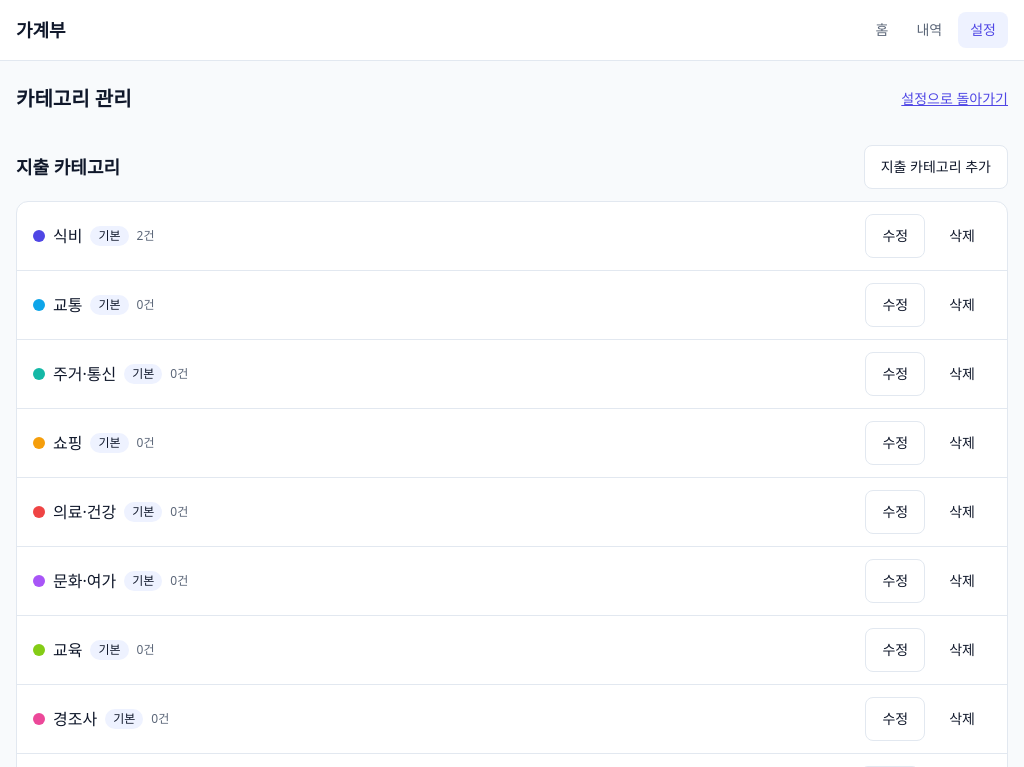
Test: 카테고리 삭제 › 사용 중인 카테고리는 같은 유형의 카테고리로 내역을 옮겨야 삭제된다
Expected: the heading "카테고리 관리" is shown, [16,85,132,113]
Click the button with aria-label "지출 카테고리 식비 삭제" at (962, 236), box [933,214,991,258]
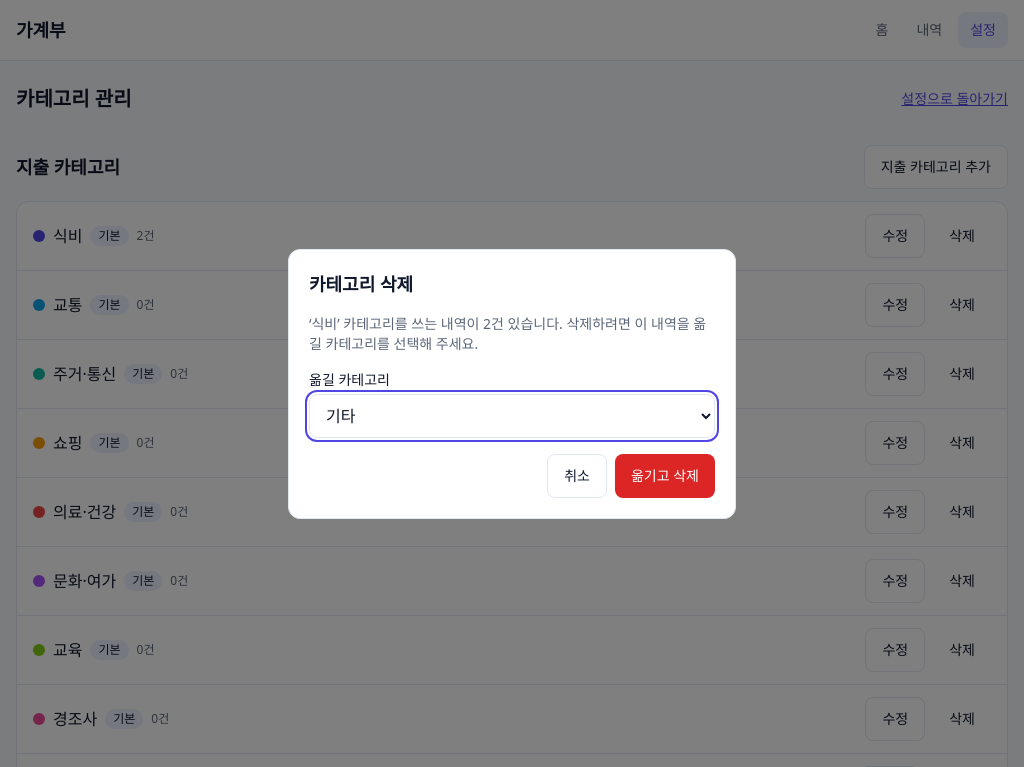
Expected: the option does not show "식비"
Result: the dialog "카테고리 삭제" shows "내역이 2건 있습니다" at [288,249,736,519]
Result: the dropdown labelled "옮길 카테고리" shows "기타"
Select "교통" in the dropdown labelled "옮길 카테고리" at (512, 416), box [309,394,715,438]
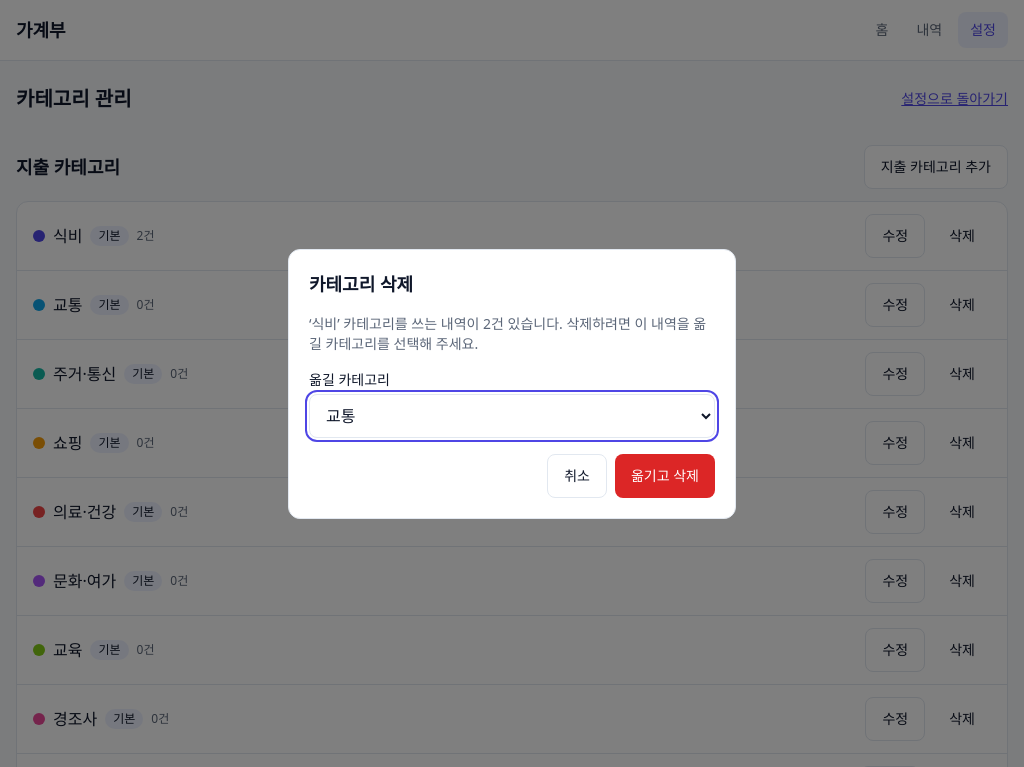
Click the button "옮기고 삭제" at (665, 476), box [615,454,715,498]
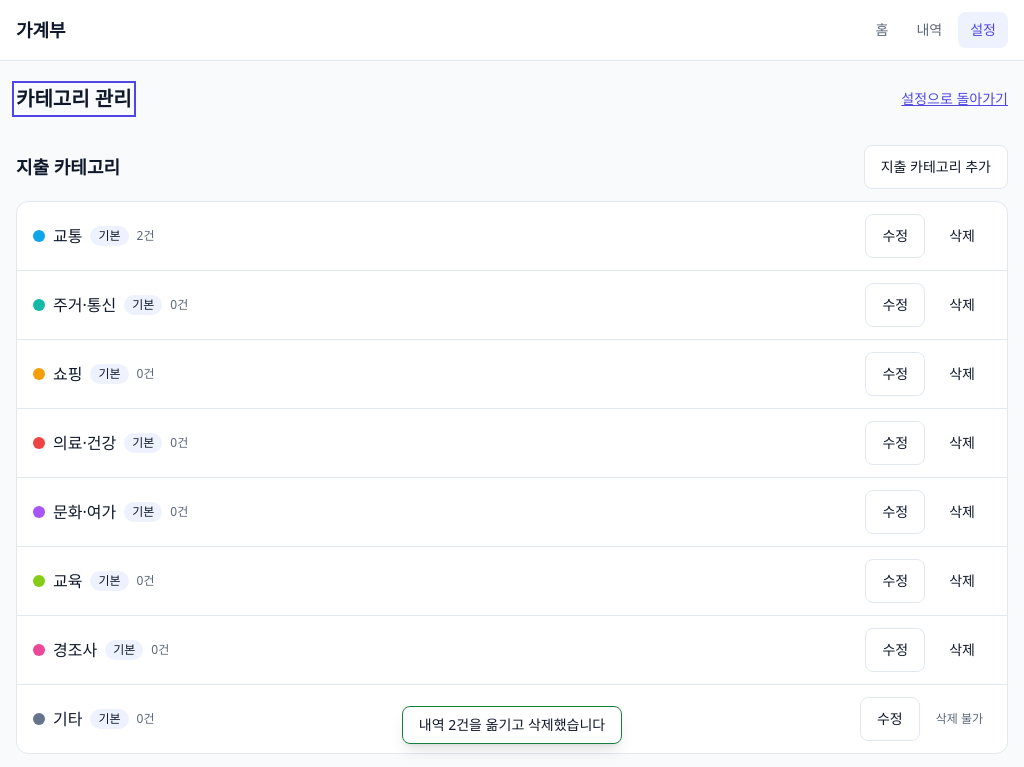
Result: the list item "교통 기본 2건 수정 삭제" is shown at [17,202,1007,271]
